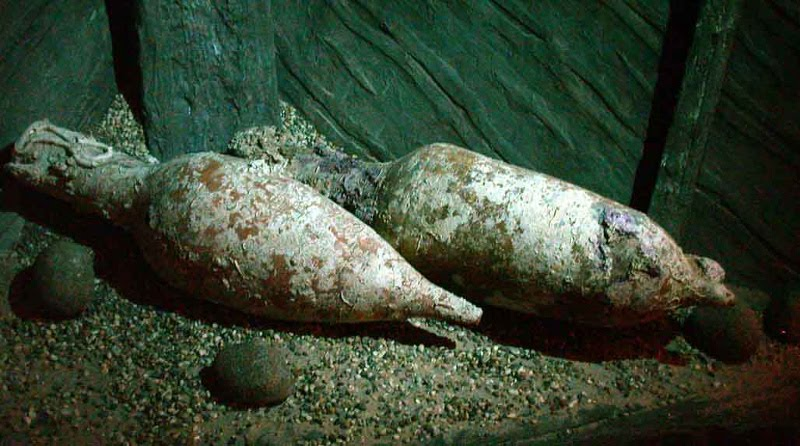amphora: (4, 115, 489, 336), (232, 124, 745, 330)
